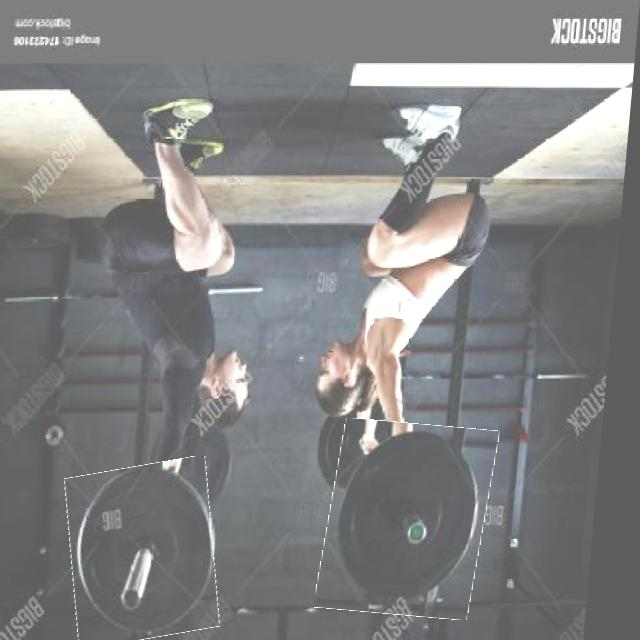barbell: (329, 422, 505, 618), (70, 462, 237, 640)
